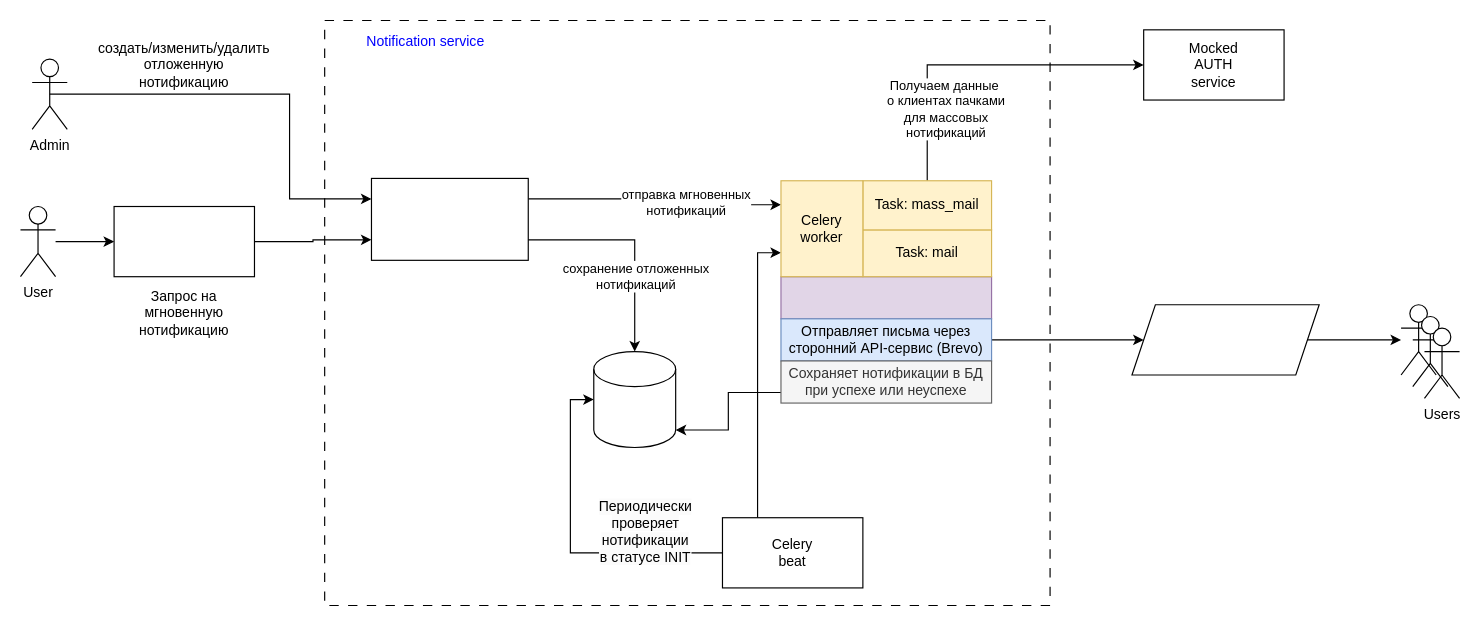
The diagram is 1480 pixels wide and 626 high, and some of its shapes have lost their labels. The shapes that lost their labels are listed below. From the top down, each one's centre as x and y in pixels, then its label:
At (449,218): "Notification API FastAPI".
At (183,241): "Внешние сервисы (UGC, Auth)".
At (886,297): "Генерирует письмо из шаблона".
At (1225,339): "Brevo".
At (634,399): "БД (Postgres)".
